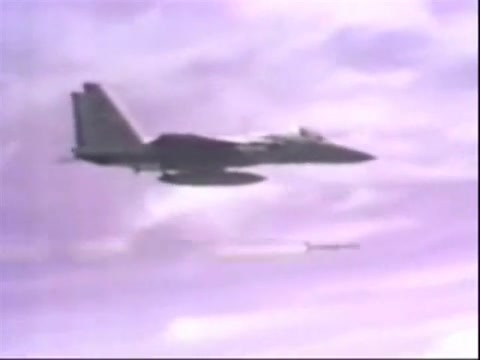aeroplane: (66, 84, 381, 188)
